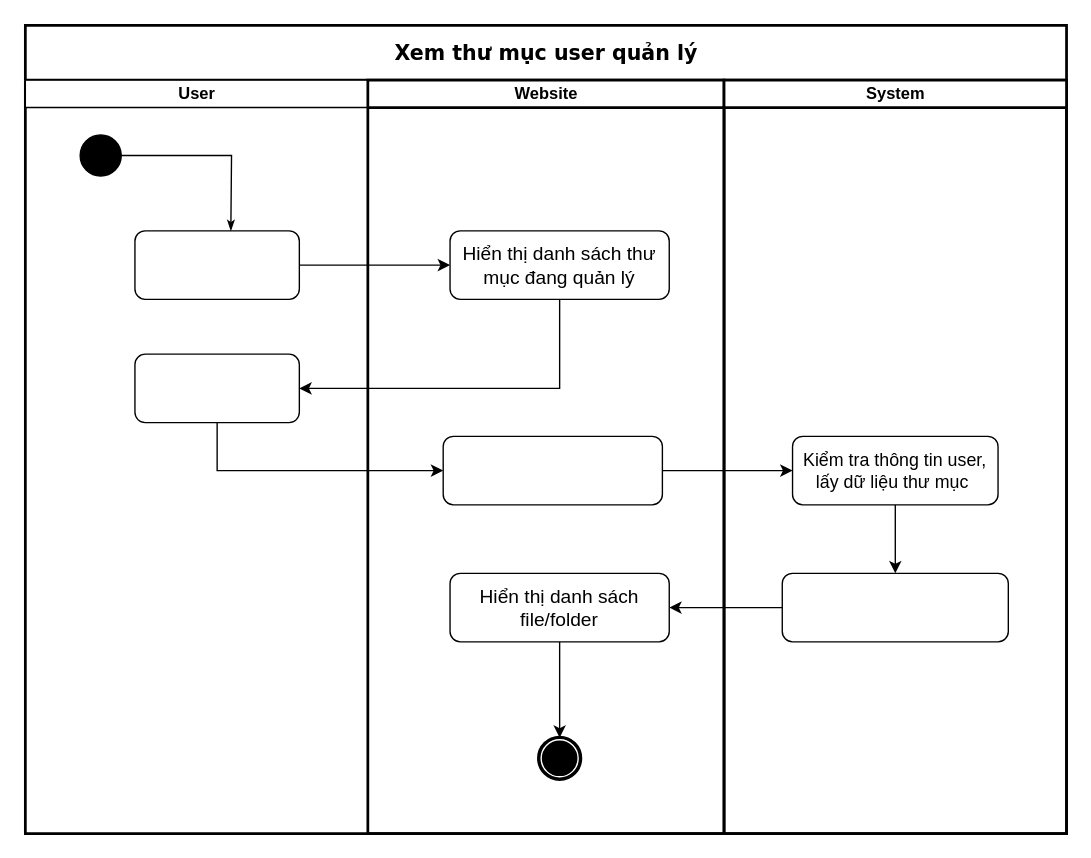
The diagram is 1091 pixels wide and 858 high, and some of its shapes have lost their labels. Here are the shapes that lost their labels. From the top down, the centre of each, then its label:
At (x=216, y=264): "Chọn mục Driver của tôi".
At (x=216, y=388): "Chọn thư mục muốn xem".
At (x=552, y=470): "Gửi message thông tin thư mục user muốn xem".
At (x=894, y=607): "Trả kết quả danh sách file/folder".
